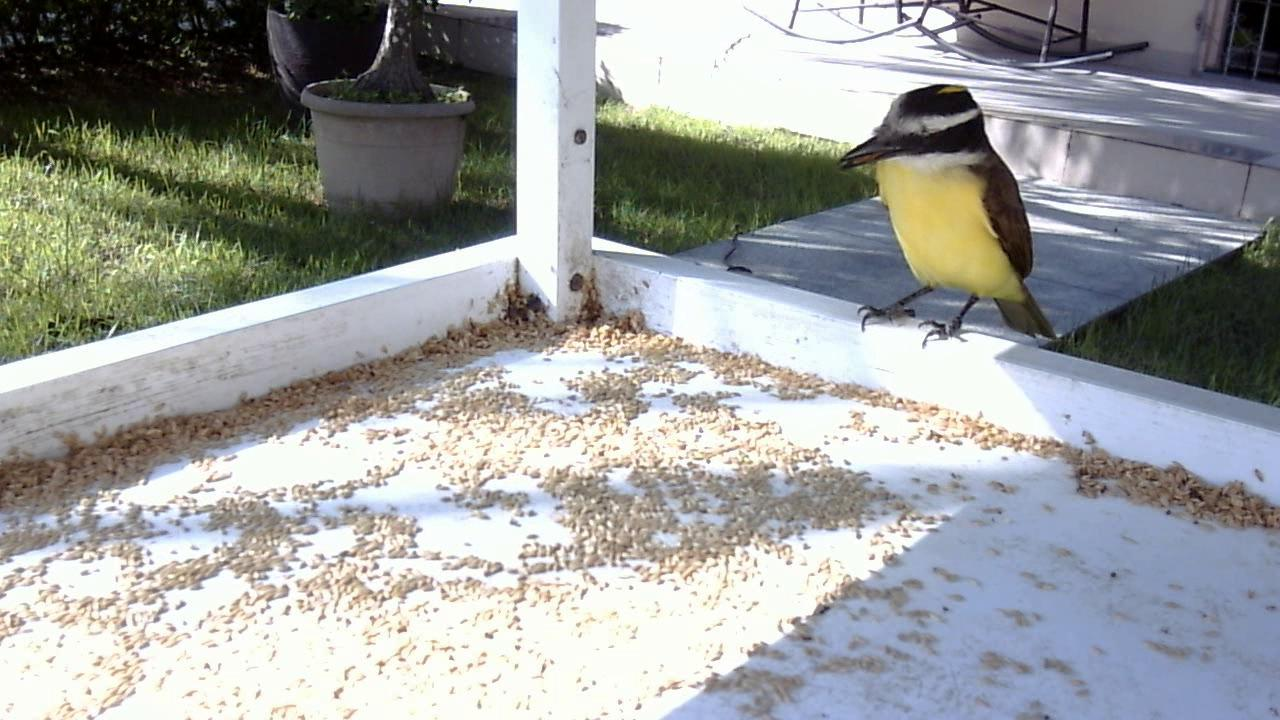bem_te_vi: (827, 74, 1067, 371)
